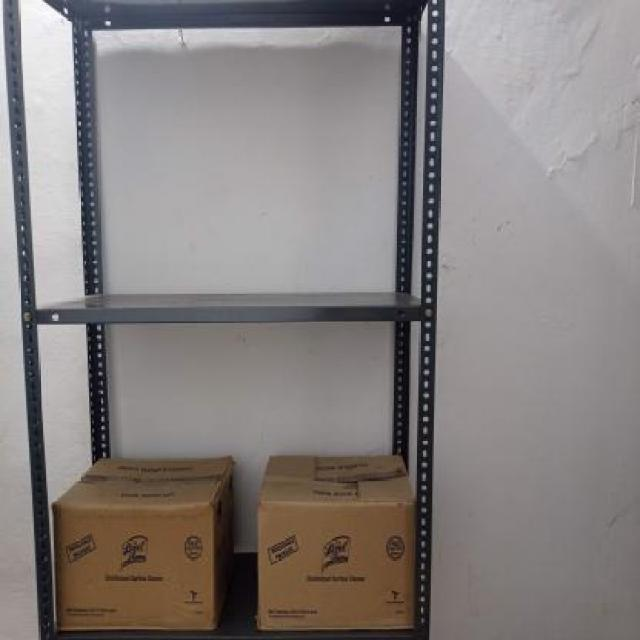box: (53, 504, 215, 634), (258, 502, 418, 628)
